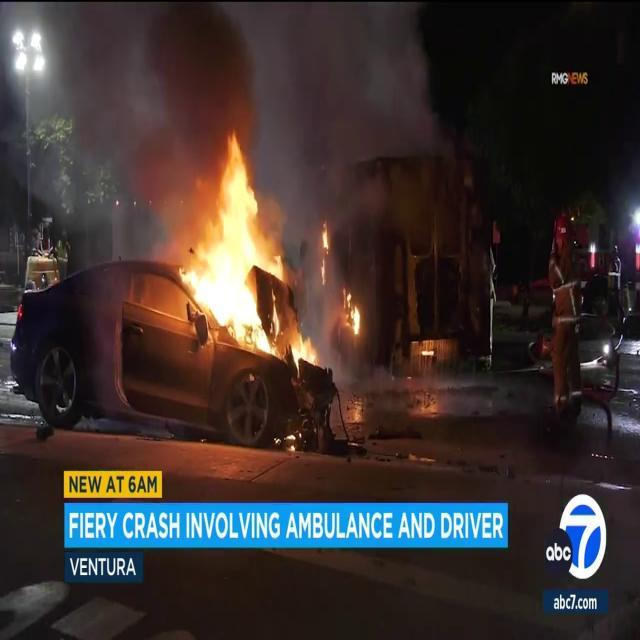Fire: (166, 121, 286, 348)
